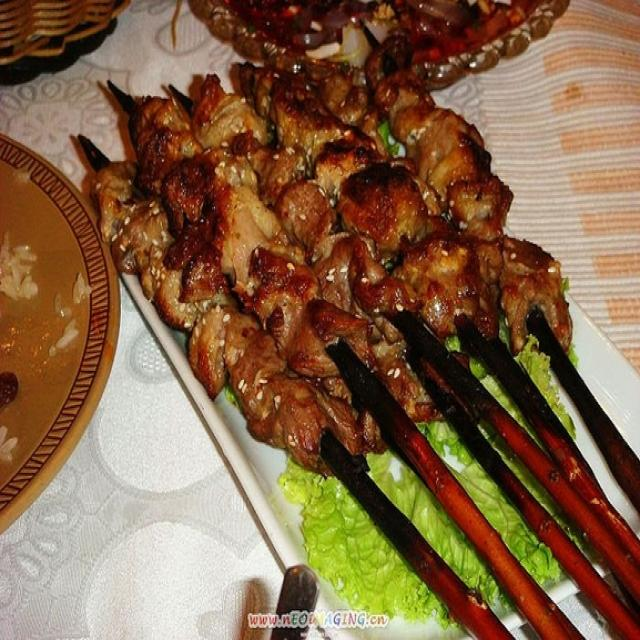烧串烤肉: (55, 23, 626, 610)
